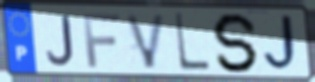F: (80, 12, 123, 69)
J: (262, 13, 303, 74), (45, 13, 76, 67)
L: (172, 11, 212, 73)
S: (211, 11, 261, 74)
V: (124, 13, 168, 71)
